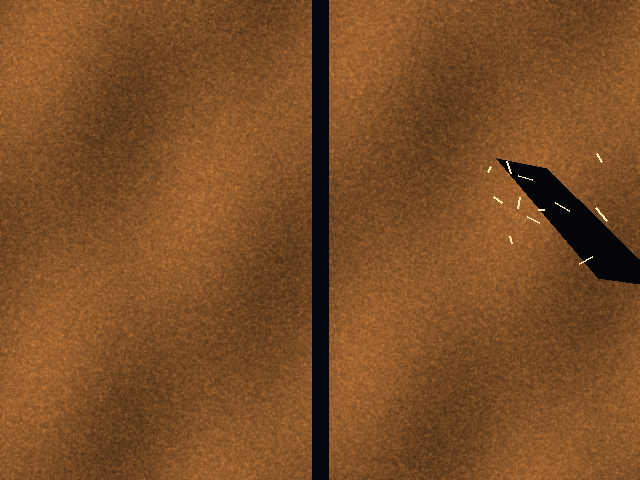Ghost Net: (486, 158, 608, 278)
